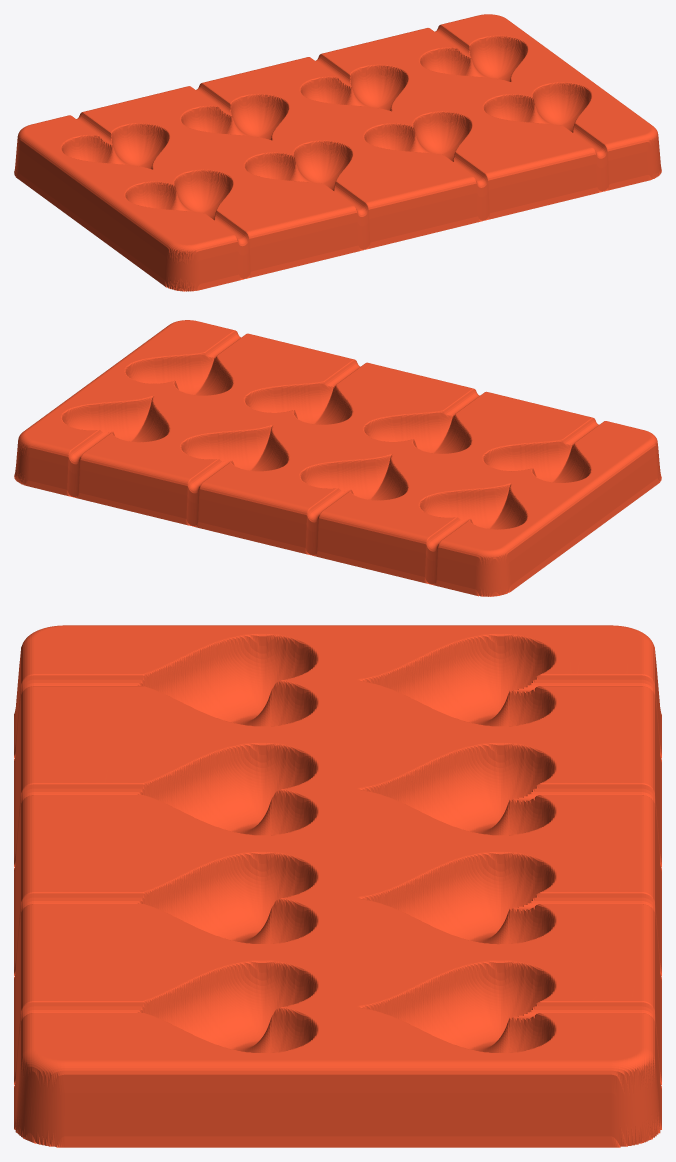
Rendered from mold.glb.
3 views of the same model, one above another, from view 1: azimuth 30°, elevation 25°; view 2: azimuth 150°, elevation 25°; view 3: azimuth 270°, elevation 25° (orthographic). The views are drawn at different scales.
Parts seen in each view (by area): view 1: geometry_0; view 2: geometry_0; view 3: geometry_0.
Boxes of the visible parts, left/top/right/bottom form: geometry_0: left=14, top=14, right=661, bottom=291; geometry_0: left=14, top=320, right=661, bottom=596; geometry_0: left=14, top=625, right=661, bottom=1147.
Size of the model in its own units: 0.1907 by 0.0155 by 0.1158.
